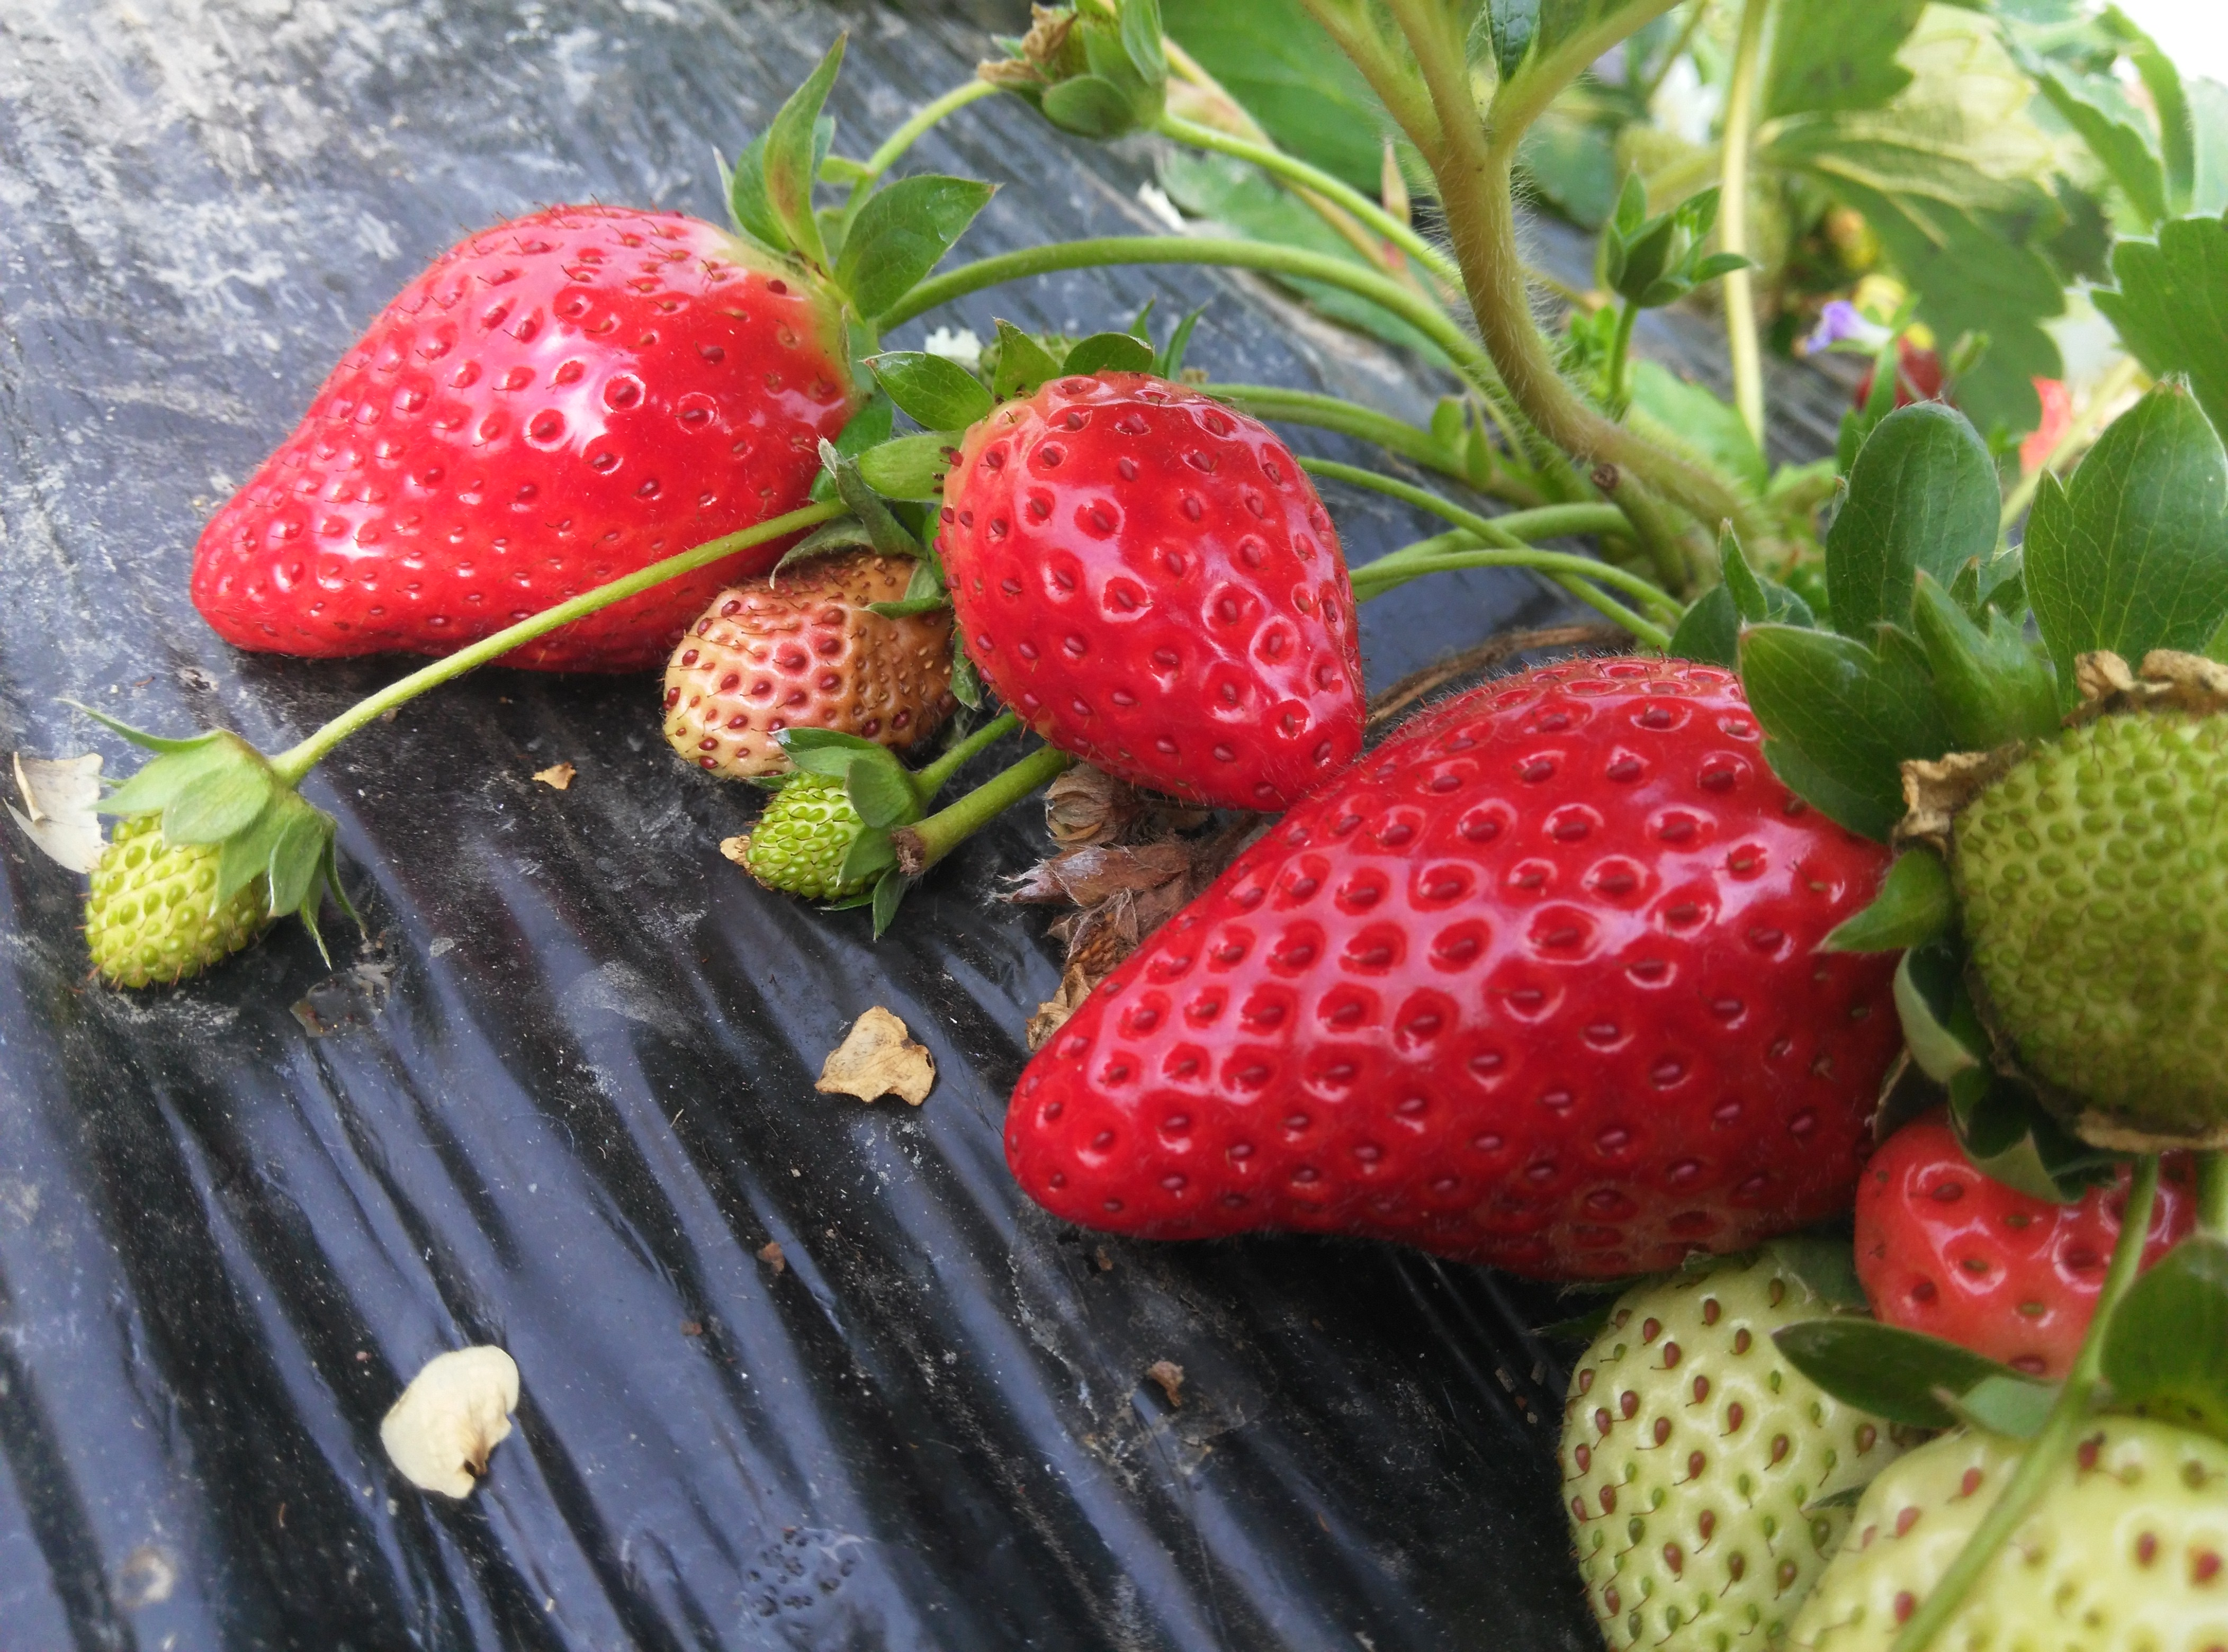StrawberryFusiform: (1005, 654, 1902, 1277), (179, 191, 875, 678), (930, 366, 1369, 819)
StrawberryIrremovable: (1543, 1268, 1883, 1616), (1947, 705, 2167, 1091), (1860, 1130, 2164, 1369), (1895, 1392, 2171, 1626), (666, 573, 951, 767), (83, 748, 309, 987), (739, 760, 911, 904)
StrawberryRemovable: (1001, 647, 1905, 1274), (180, 196, 873, 675), (939, 368, 1367, 814)
